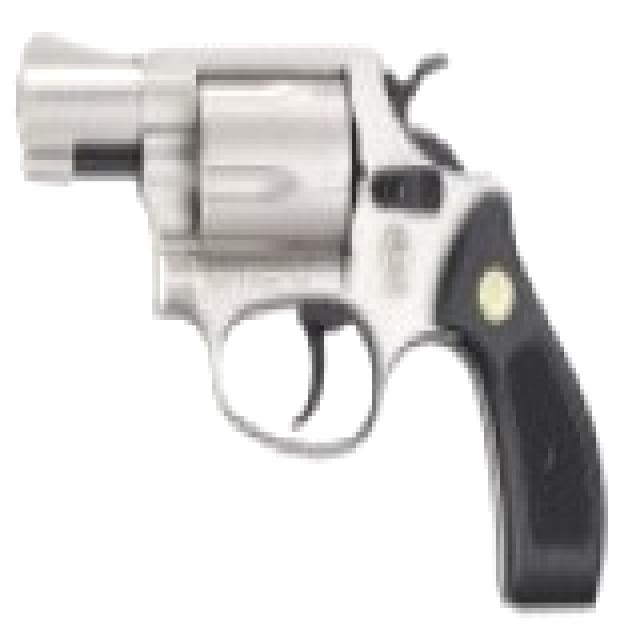pistol: (8, 16, 604, 608)
